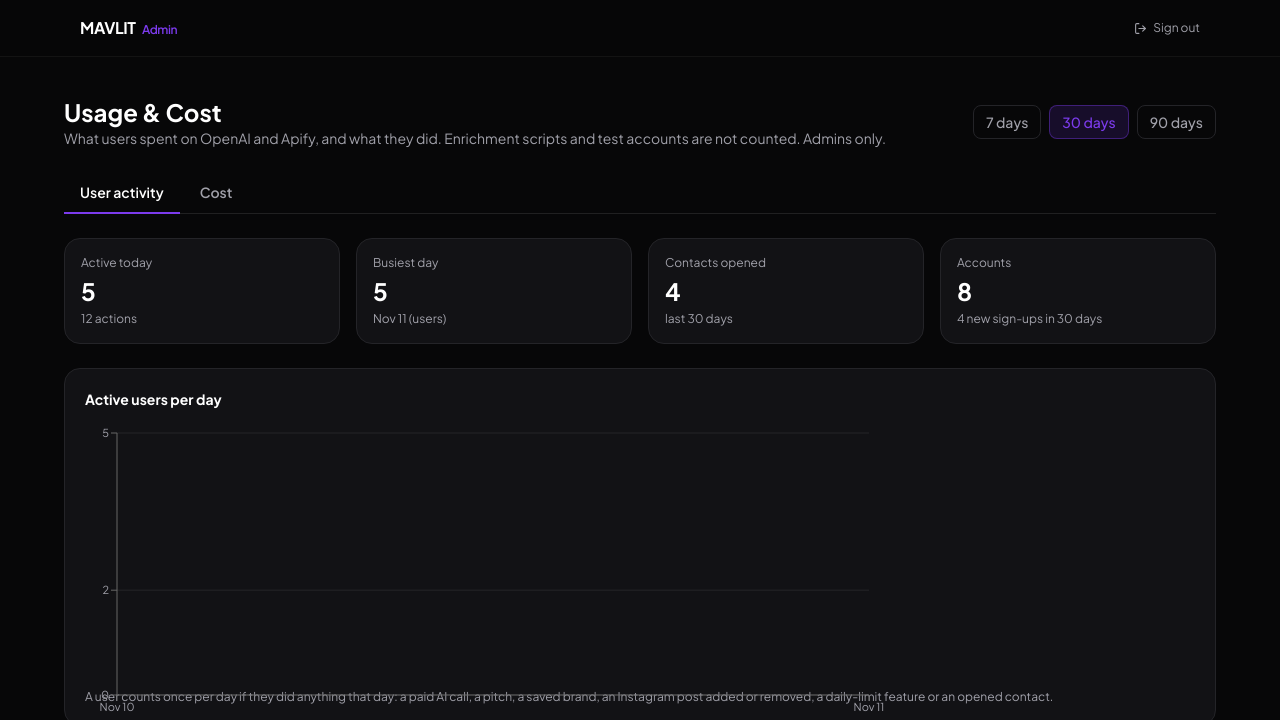
Test: Usage & Cost page › shows the cards, the spike alert and the tables to an admin, with no budget anywhere
Expected: the heading "Usage & Cost" is shown, x1=64 y1=97 x2=222 y2=127
Expected: the element with test id "stat-active-today" is shown, x1=64 y1=238 x2=340 y2=344
Click the tab "Cost": [216, 193] box x1=184 y1=172 x2=248 y2=214
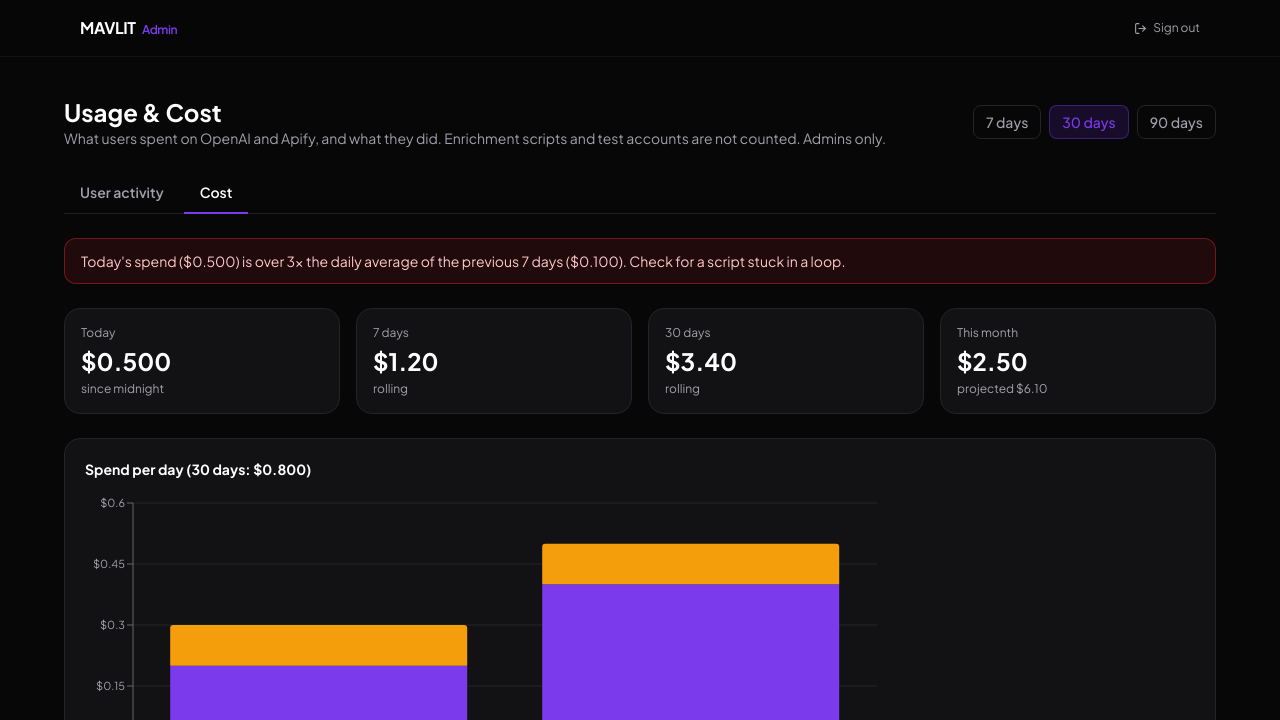
Expected: the text "Enrichment scripts and test accounts are not counted" is shown, x1=64 y1=129 x2=886 y2=147
Expected: the element with test id "stat-today" shows "$0.500", x1=81 y1=346 x2=171 y2=376
Expected: the message shows "over 3×", x1=236 y1=252 x2=570 y2=270
